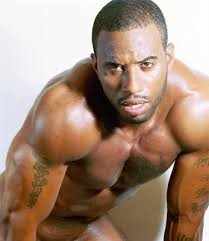black_male: (93, 9, 173, 119)
